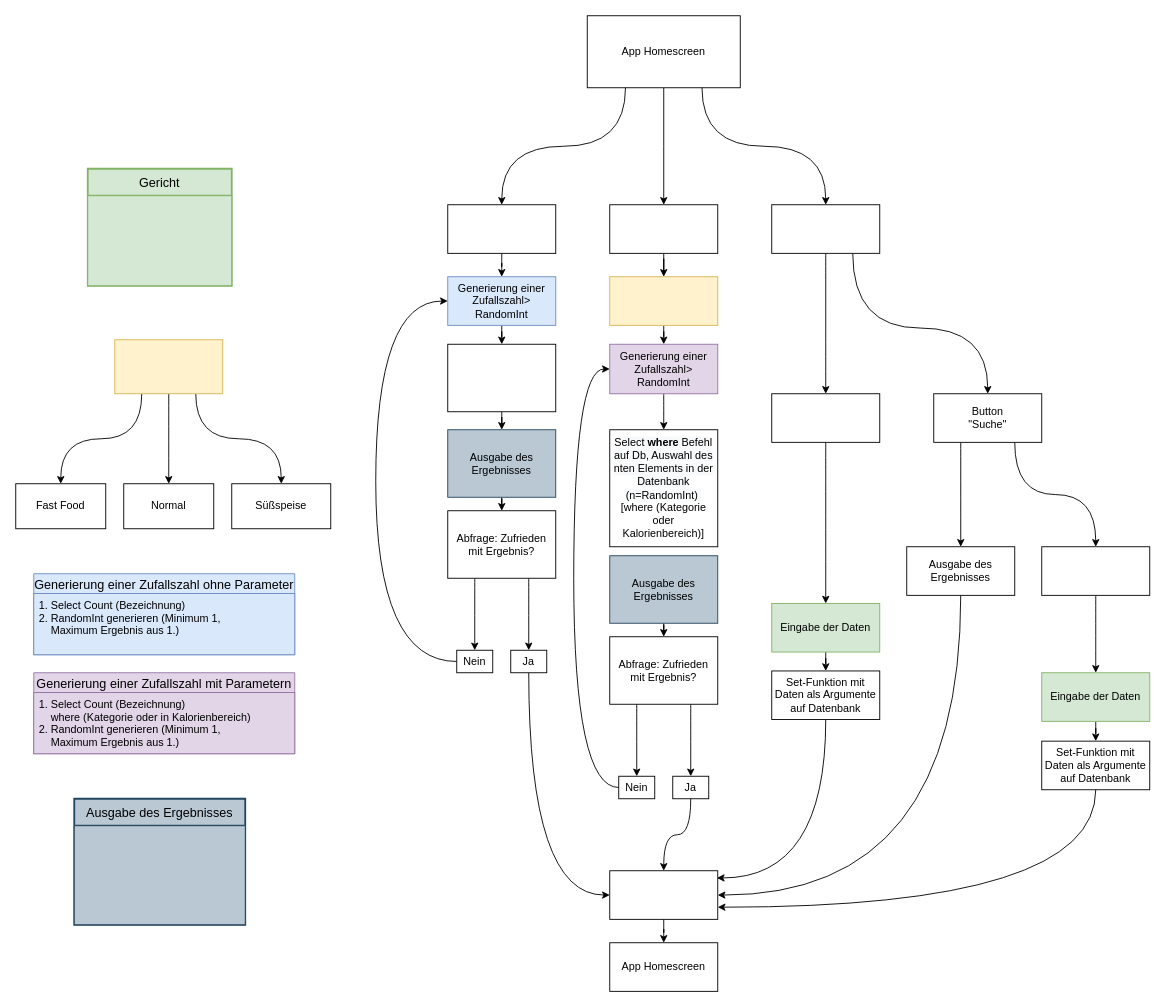
Image size: 1166x1007. Some labels were removed from this diagram. Each missing label, with the centre of its shape:
*Bezeichnung *Kategorie *KalorienProPortion oEiweiß oKohlenhydrate oFett: the point at 159,240
*Bezeichnung *Kategorie *KalorienProPortion oFett oEiweiß oKohlenhydrate: the point at 159,875
Button "Hinzufügen": the point at 825,417
Button "Änderung": the point at 1095,570
Kategorien: the point at 168,366
Leeren der Variablen: the point at 663,894
Parametereingabe (Kalorienbereich, Kategorie): the point at 663,300
Select * Befehl auf Db, Auswahl des nten Elements in der Datenbank (n=RandomInt): the point at 501,377
Tab1 "Zufälliger Vorschlag": the point at 501,228
Tab2 "Vorschlag nach Vorgaben": the point at 663,228
Tab3 "Übersicht": the point at 825,228
